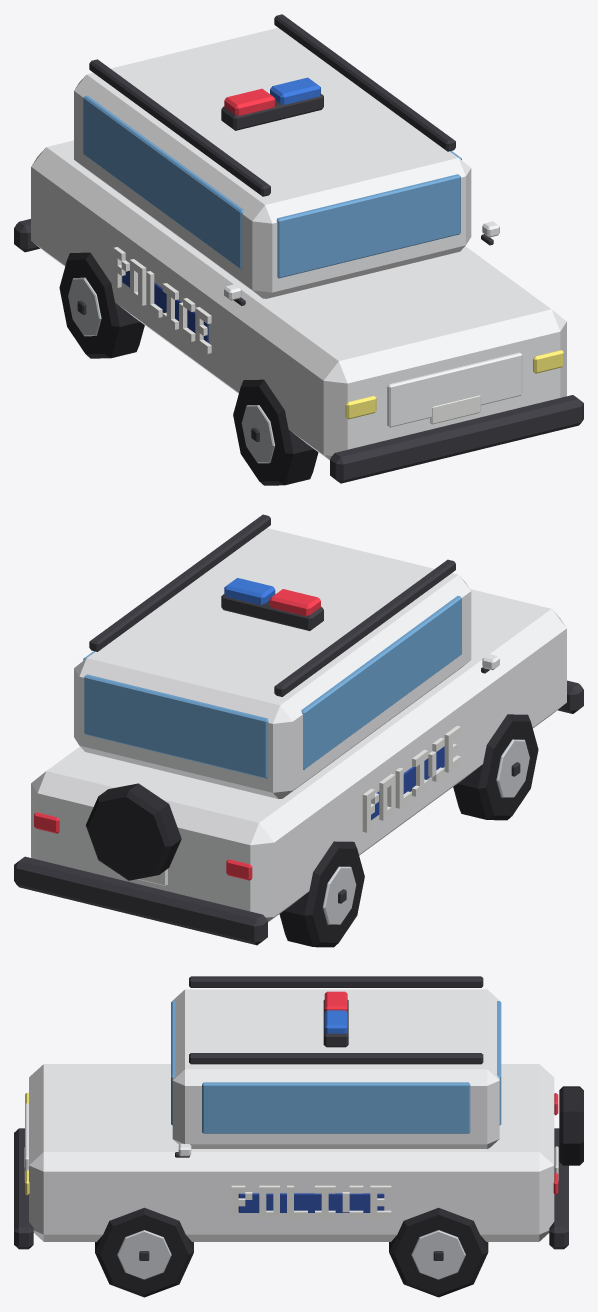
The model's file is PoliceSUV.fbx.
3 views of the same model, one above another, from view 1: azimuth 30°, elevation 25°; view 2: azimuth 150°, elevation 25°; view 3: azimuth 270°, elevation 25° (orthographic). The views are drawn at different scales.
Visible parts, largest first — view 1: PoliceSUV, PoliceSUV_WheelBR, PoliceSUV_WheelFR; view 2: PoliceSUV, PoliceSUV_WheelBR, PoliceSUV_WheelFR; view 3: PoliceSUV, PoliceSUV_WheelBL, PoliceSUV_WheelFL.
Part boxes in pixels (x1,y1,x2,y2): PoliceSUV: (14,14,583,483); PoliceSUV_WheelBR: (59,252,144,358); PoliceSUV_WheelFR: (233,379,318,485); PoliceSUV: (14,514,583,945); PoliceSUV_WheelBR: (279,841,364,947); PoliceSUV_WheelFR: (453,714,538,820); PoliceSUV: (14,976,583,1249); PoliceSUV_WheelBL: (389,1207,488,1297); PoliceSUV_WheelFL: (95,1207,193,1297).
Bounding box in the file's own units: 5.35 × 5.32 × 11.5.
1 material, 1 textured.
